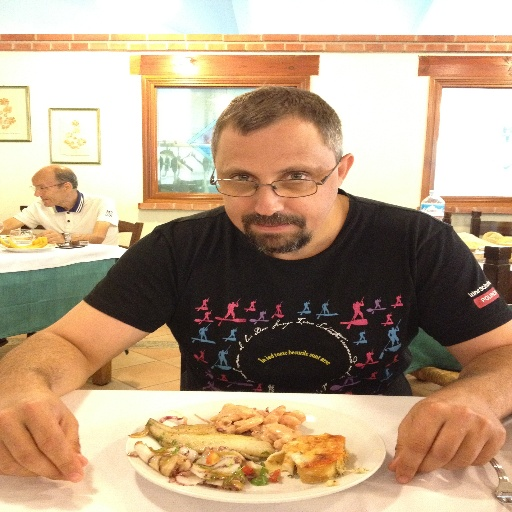hand: (388, 384, 507, 485), (0, 386, 88, 483), (28, 228, 62, 243)
